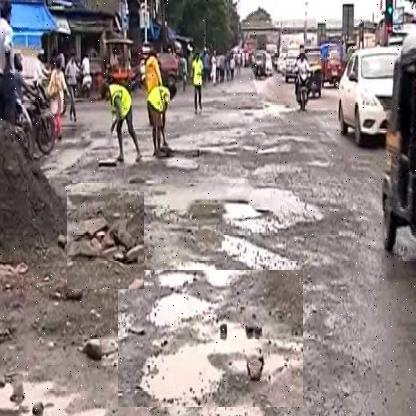damage: (66, 192, 144, 290)
pothole_water_m: (117, 270, 303, 408)
